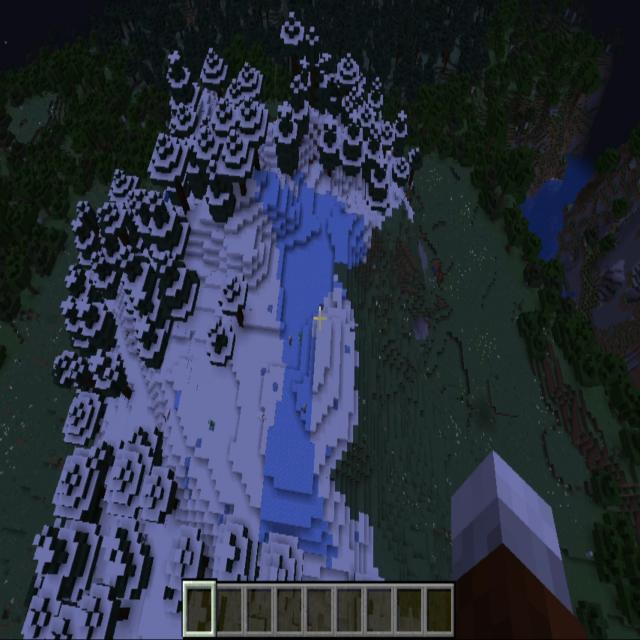Creeper: (207, 416, 216, 432), (298, 326, 303, 341)
Goat: (257, 407, 267, 424), (344, 194, 352, 211), (164, 404, 171, 423)
Skeleton: (13, 354, 22, 368), (584, 549, 594, 560), (299, 402, 308, 414), (287, 335, 293, 348)
